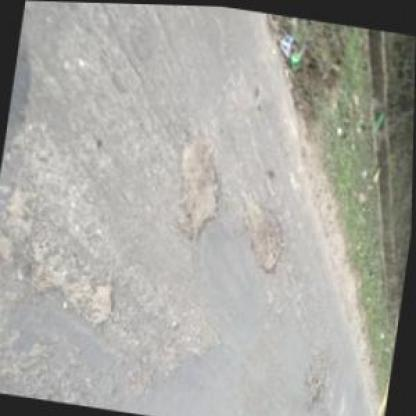pothole: (165, 135, 232, 244), (232, 193, 292, 277), (79, 278, 121, 332), (300, 352, 332, 409)
